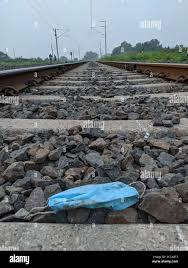mulch: (42, 175, 147, 219)
